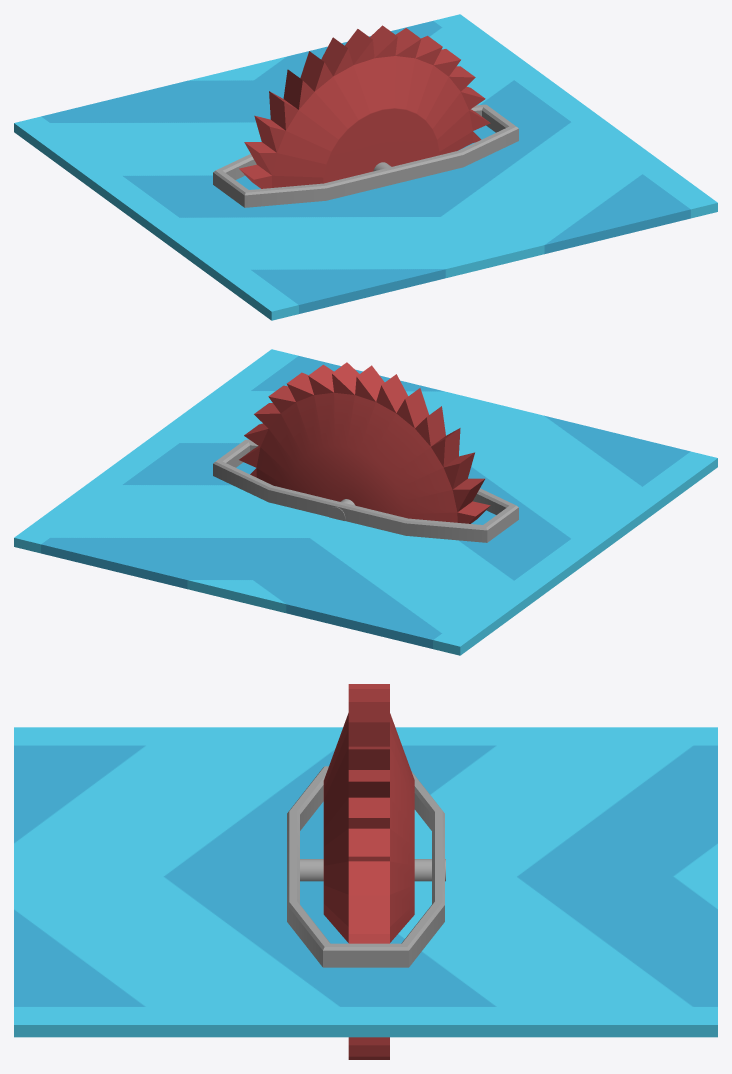
Rendered from saw.fbx.
The picture shows the model from 3 angles, top to bottom: view 1: azimuth 30°, elevation 25°; view 2: azimuth 150°, elevation 25°; view 3: azimuth 270°, elevation 25°; orthographic projection. The views are drawn at different scales.
Visible parts, largest first — view 1: speed_down, pCylinder1, pCube1; view 2: speed_down, pCylinder1, pCube1; view 3: speed_down, pCylinder1, pCube1.
Boxes of the visible parts, x1,y1,x2,y2 form: speed_down: (14,14,717,320); pCylinder1: (239,25,490,188); pCube1: (213,104,518,207); speed_down: (14,349,717,655); pCylinder1: (239,362,490,523); pCube1: (213,439,518,542); speed_down: (14,727,717,1037); pCylinder1: (300,684,445,1059); pCube1: (287,766,444,967).
Bounding box in the file's own units: 9.24 × 4.93 × 9.24.
